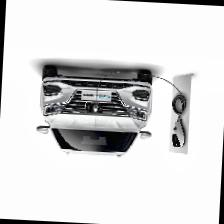EV: (34, 64, 156, 161)
